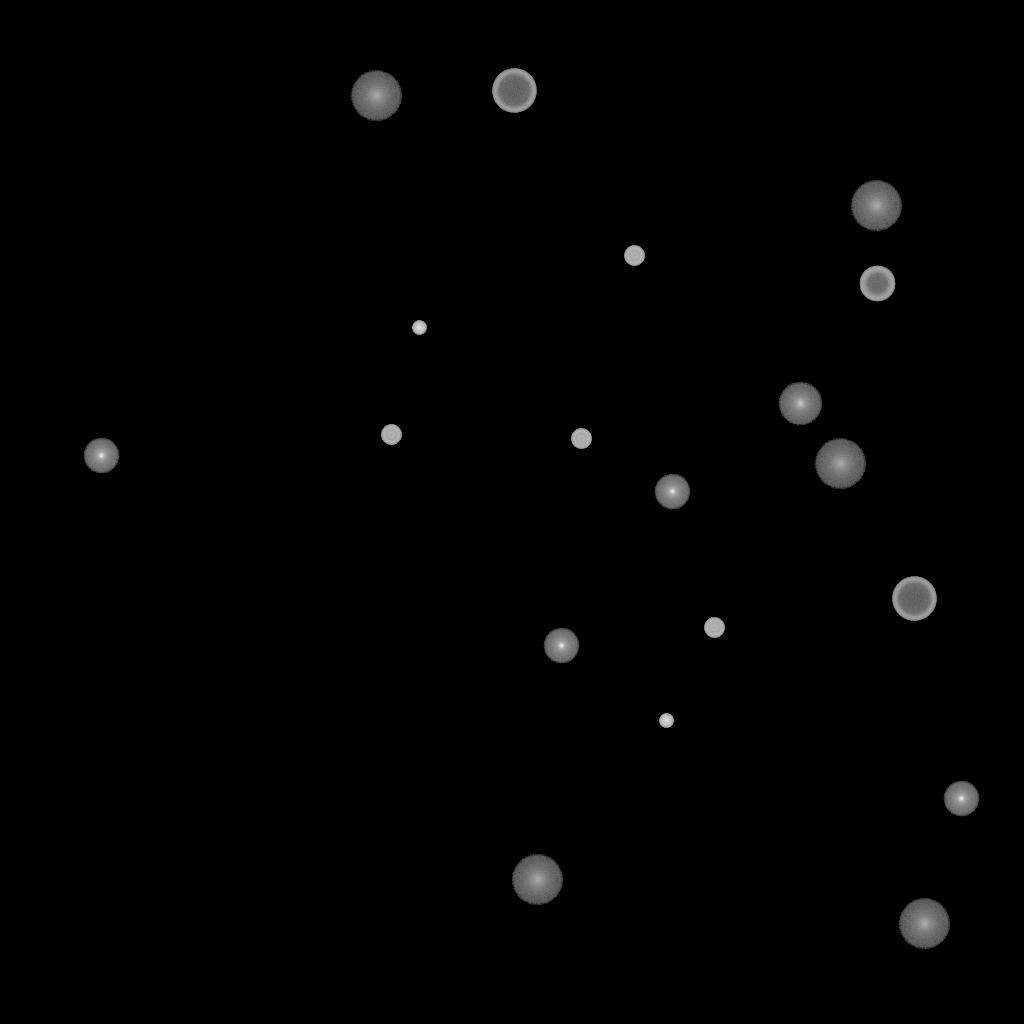depth:-30: (659, 714, 673, 728), (412, 321, 426, 335)
depth:-40: (624, 246, 644, 266), (381, 425, 401, 445), (571, 429, 591, 449), (704, 618, 724, 638)
depth:-60: (859, 266, 895, 302)
depth:-70: (892, 577, 936, 621), (492, 69, 536, 113)
depth:0: (654, 474, 690, 510), (543, 628, 579, 664), (943, 781, 979, 817), (83, 438, 119, 474)
depth:10: (778, 382, 822, 426)
depth:20: (511, 855, 563, 905), (814, 439, 866, 489), (898, 899, 950, 949), (850, 181, 902, 231), (350, 71, 402, 121)
